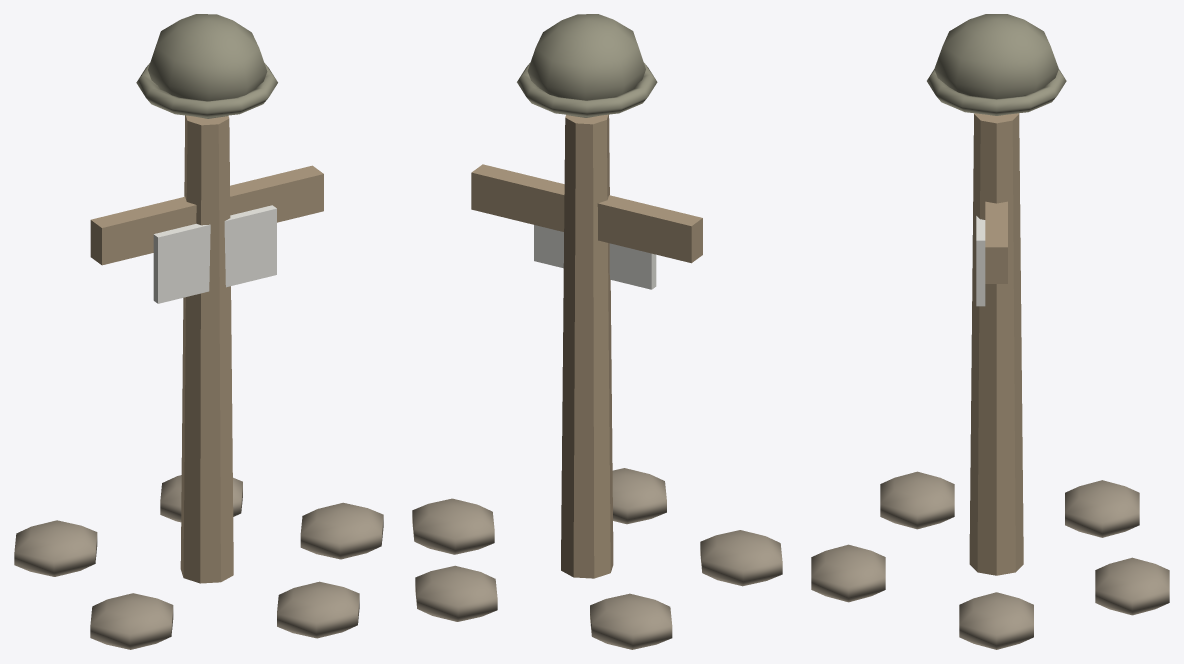
File: trench-line-1917-marker-cross-81a2e386__24092.glb
The picture shows the model from 3 angles, left to right: view 1: azimuth 30°, elevation 25°; view 2: azimuth 150°, elevation 25°; view 3: azimuth 270°, elevation 25°; orthographic projection.
Visible parts, largest first — view 1: marker-cross; view 2: marker-cross; view 3: marker-cross.
Part boxes in pixels (x1,y1,x2,y2): marker-cross: (14,14,383,649); marker-cross: (412,14,782,649); marker-cross: (811,14,1169,649).
Size of the model in its own units: 0.8406 by 1.36 by 0.7928.
